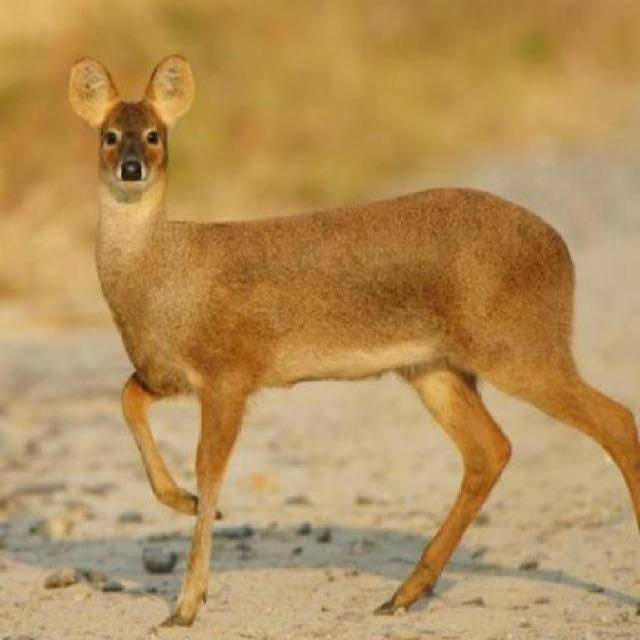deer: (49, 41, 638, 639)
